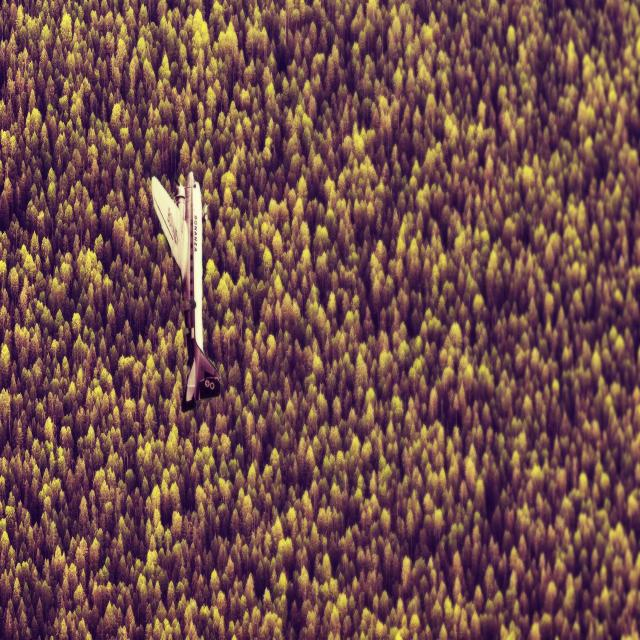airplane: (150, 170, 221, 412)
